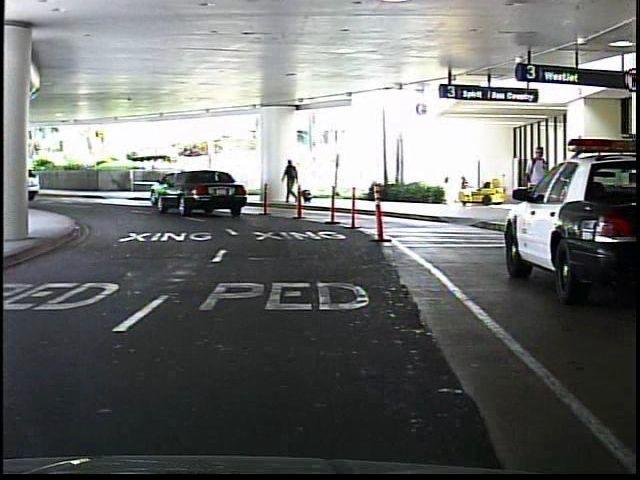person: (522, 142, 550, 233), (278, 158, 306, 209)
